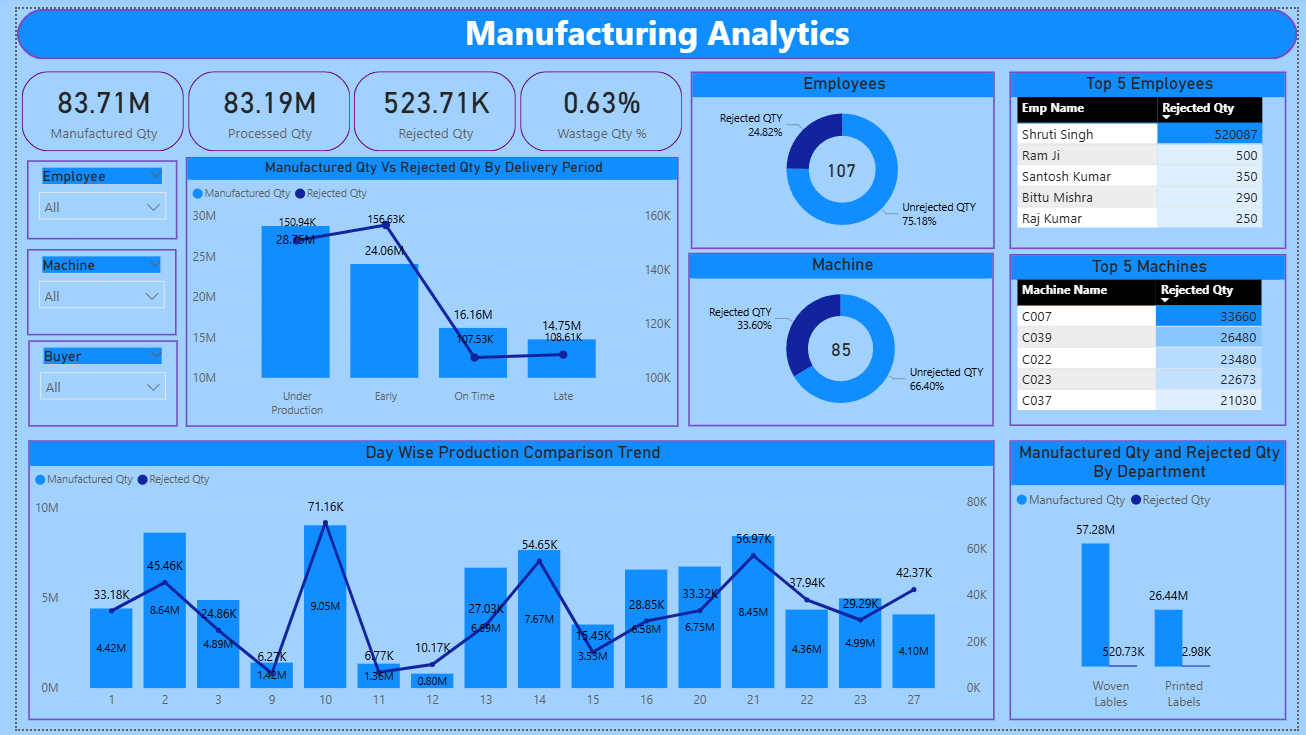

Layout of this report page (visuals, bound fields, positions):
{"tool":"powerbi","page":{"name":"Page 1","canvas":[1280,720],"ordinal":0},"visuals":[{"type":"shape","box":[11.4,228.6,428.6,242.9],"z":0},{"type":"shape","box":[455.7,481.4,425.7,238.6],"z":1000},{"type":"shape","box":[458.6,227.1,422.9,244.3],"z":2000},{"type":"lineClusteredColumnComboChart","title":"Manufacture Vs Rejected Qty","fields":{"Y2":["Sum(PROD DATA.Rejected Qty)"],"Y":["Sum(PROD DATA.Manufactured Qty)"],"Category":["PROD DATA.Doc Date.Variation.Date Hierarchy.Month","PROD DATA.Doc Date.Variation.Date Hierarchy.Day"]},"box":[11.4,247.1,428.6,207.1],"z":3000},{"type":"clusteredColumnChart","title":"Machine Vs Rejected Qty","fields":{"Category":["PROD DATA.Machine Code"],"Y":["Sum(PROD DATA.Rejected Qty)"]},"box":[457.1,520,425.7,197.1],"z":4000},{"type":"clusteredColumnChart","title":"Department Wise Manufactured Vs Rejected","fields":{"Category":["PROD DATA.Department Name"],"Y":["Sum(PROD DATA.Manufactured Qty)","Sum(PROD DATA.Rejected Qty)"]},"box":[461.4,247.1,420,224.3],"z":5000},{"type":"shape","box":[11.4,481.4,428.6,238.6],"z":6000},{"type":"lineChart","title":"Production Comparison Trend","fields":{"Category":["PROD DATA.Doc Date.Variation.Date Hierarchy.Year","PROD DATA.Doc Date.Variation.Date Hierarchy.Quarter","PROD DATA.Doc Date.Variation.Date Hierarchy.Month","PROD DATA.Doc Date.Variation.Date Hierarchy.Day"],"Y":["Sum(PROD DATA.Rejected Qty)","Sum(PROD DATA.Produced Qty)"]},"box":[22.9,520,400,185.7],"z":7000},{"type":"slicer","fields":{"Values":["PROD DATA.Emp Name"]},"box":[927.7,470.3,300.1,203.4],"z":8000},{"type":"shape","box":[9.7,0,1270.4,107.4],"z":9000},{"type":"shape","box":[10.9,120.6,232.9,94.3],"z":9000,"group":"g2"},{"type":"shape","box":[264.2,121.9,232.9,94.3],"z":9000,"group":"g1"},{"type":"shape","box":[529.6,121.9,232.9,94.3],"z":9000,"group":"g3"},{"type":"shape","box":[921.9,180.3,305.9,265.5],"z":10000},{"type":"card","fields":{"Values":["Sum(PROD DATA.Manufactured Qty)"]},"box":[36.6,146.3,187.1,68.6],"z":11000,"group":"g2"},{"type":"card","fields":{"Values":["Sum(PROD DATA.Rejected Qty)"]},"box":[289.9,147.6,187.1,68.6],"z":11000,"group":"g1"},{"type":"card","fields":{"Values":["Sum(PROD DATA.Wastage QTY)"]},"box":[555.3,147.6,187.1,68.6],"z":11000,"group":"g3"},{"type":"textbox","box":[108.6,228.6,211.4,27.1],"z":11000},{"type":"textbox","box":[514.3,227.1,352.9,27.1],"z":12000},{"type":"textbox","box":[49.3,132.8,182.2,29],"z":13000,"group":"g2"},{"type":"textbox","box":[328.5,133.3,148.6,28.6],"z":13000,"group":"g1"},{"type":"textbox","box":[593.9,133.3,148.6,28.6],"z":13000,"group":"g3"},{"type":"textbox","box":[124.3,492.9,180,27.1],"z":13000},{"type":"textbox","box":[564.3,492.9,210,27.1],"z":14000},{"type":"group","id":"g1","title":"Group 1","box":[264.2,121.9,232.8,94.1],"z":15000},{"type":"group","id":"g2","title":"Group 1","box":[10.9,120.6,232.8,94.1],"z":16000},{"type":"group","id":"g3","title":"Group 1","box":[529.6,121.9,232.8,94.1],"z":17000},{"type":"textbox","box":[380.9,26,546.8,54.8],"z":17001}]}

Visuals, with their boxes in screenshot pixels (x1, y1, x2, y2), scaled from the page's 1280x720 canvas onto the 1306x735 screenshot:
shape: x1=12, y1=233, x2=449, y2=481
shape: x1=465, y1=491, x2=899, y2=734
shape: x1=468, y1=232, x2=899, y2=481
"Manufacture Vs Rejected Qty" lineClusteredColumnComboChart: x1=12, y1=252, x2=449, y2=464
"Machine Vs Rejected Qty" clusteredColumnChart: x1=466, y1=531, x2=901, y2=732
"Department Wise Manufactured Vs Rejected" clusteredColumnChart: x1=471, y1=252, x2=899, y2=481
shape: x1=12, y1=491, x2=449, y2=734
"Production Comparison Trend" lineChart: x1=23, y1=531, x2=431, y2=720
slicer - PROD DATA.Emp Name: x1=947, y1=480, x2=1253, y2=688
shape: x1=10, y1=0, x2=1305, y2=110
shape: x1=11, y1=123, x2=249, y2=219
shape: x1=270, y1=124, x2=507, y2=221
shape: x1=540, y1=124, x2=778, y2=221
shape: x1=941, y1=184, x2=1253, y2=455
card - Sum(PROD DATA.Manufactured Qty): x1=37, y1=149, x2=228, y2=219
card - Sum(PROD DATA.Rejected Qty): x1=296, y1=151, x2=487, y2=221
card - Sum(PROD DATA.Wastage QTY): x1=567, y1=151, x2=757, y2=221
textbox: x1=111, y1=233, x2=326, y2=261
textbox: x1=525, y1=232, x2=885, y2=259
textbox: x1=50, y1=136, x2=236, y2=165
textbox: x1=335, y1=136, x2=487, y2=165
textbox: x1=606, y1=136, x2=758, y2=165
textbox: x1=127, y1=503, x2=310, y2=531
textbox: x1=576, y1=503, x2=790, y2=531
"Group 1" group: x1=270, y1=124, x2=507, y2=220
"Group 1" group: x1=11, y1=123, x2=249, y2=219
"Group 1" group: x1=540, y1=124, x2=778, y2=220
textbox: x1=389, y1=27, x2=947, y2=82
